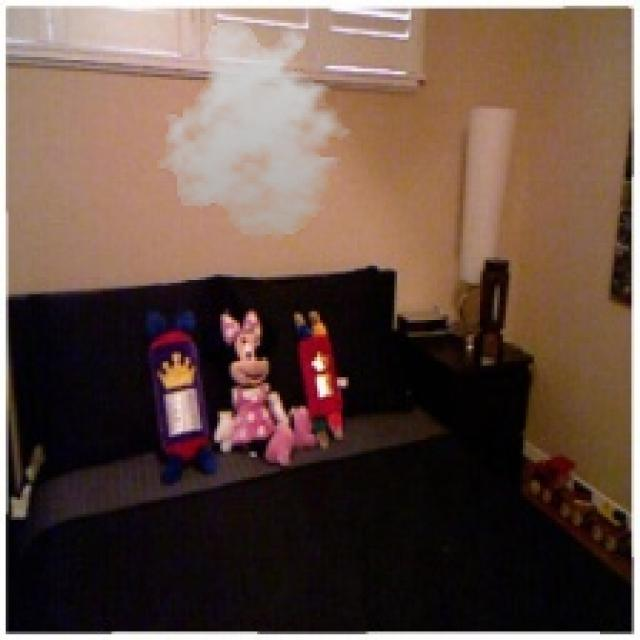smoke: (151, 17, 363, 240)
